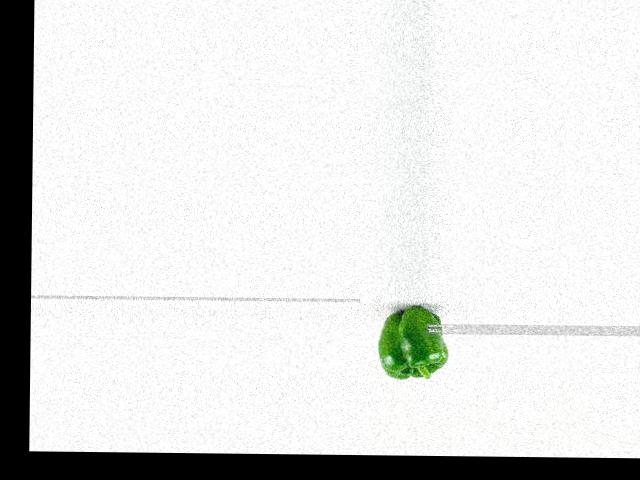bell_pepper: (375, 302, 447, 383)
